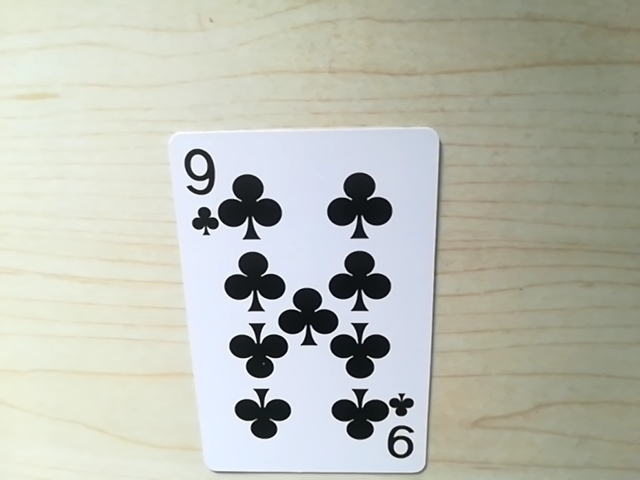mh 9: (177, 140, 217, 246), (388, 393, 421, 462)
